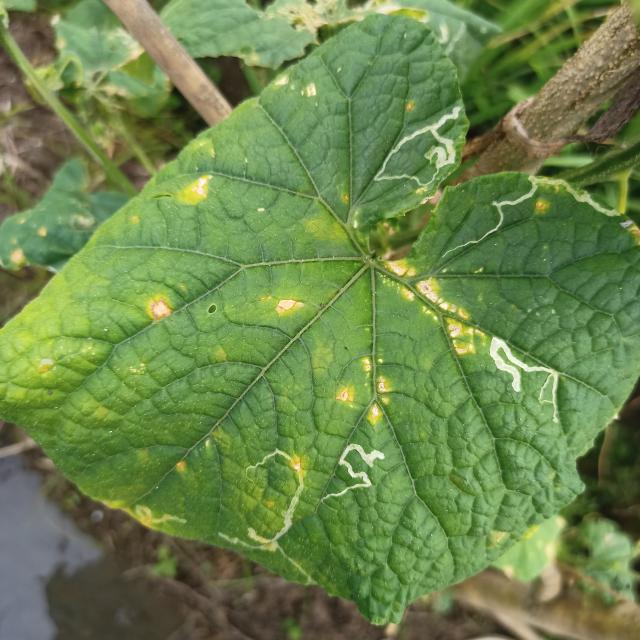disease_cucumber: (382, 260, 487, 362), (336, 354, 394, 430), (272, 73, 320, 107), (177, 172, 216, 204), (268, 295, 307, 321), (145, 295, 175, 324), (533, 199, 552, 220)
